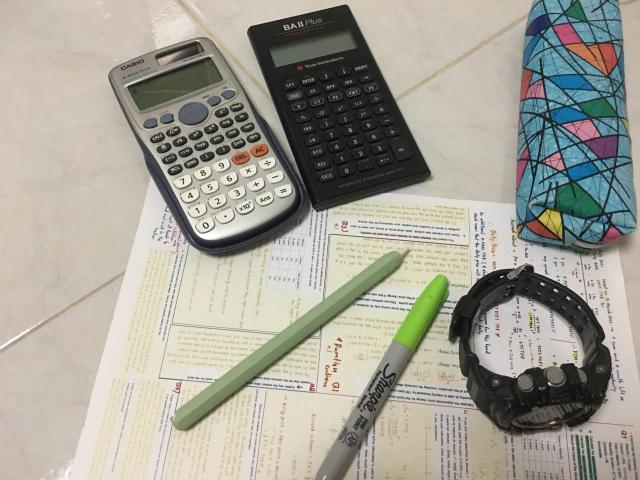Pen: (316, 275, 449, 479)
Watch: (449, 265, 611, 432)
paper: (71, 184, 640, 479)
